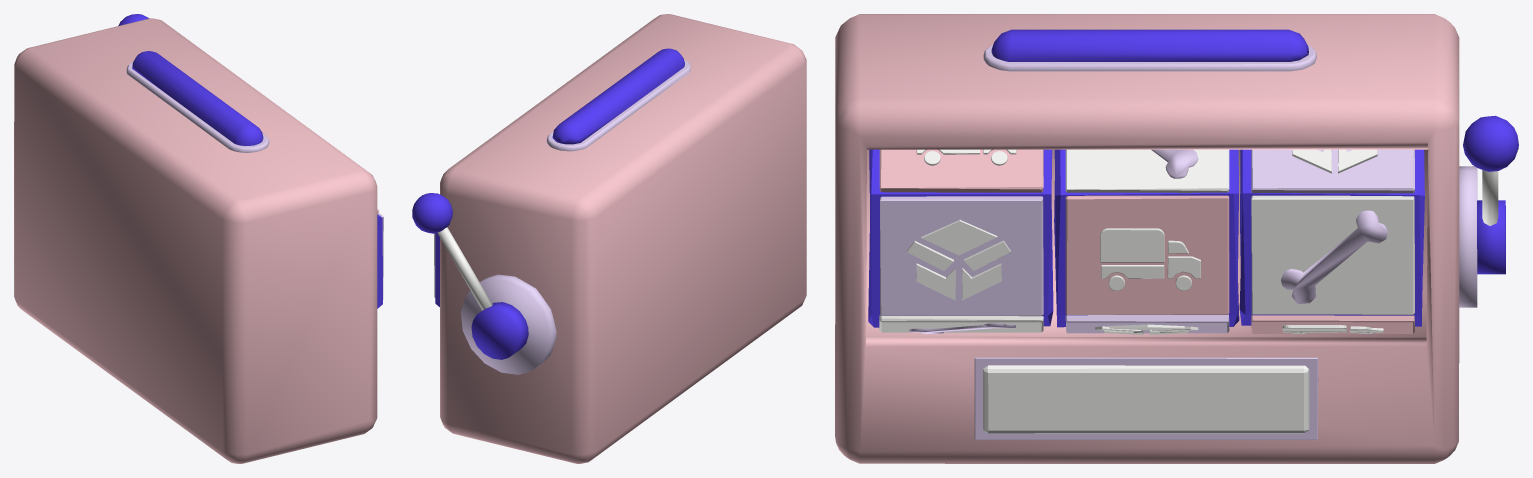
File: slot_machine_6.glb
3 views of the same model, side by side, from view 1: azimuth 30°, elevation 25°; view 2: azimuth 150°, elevation 25°; view 3: azimuth 270°, elevation 25° (orthographic). The views are drawn at different scales.
Visible parts, largest first — view 1: boite, gyro, gyro base, roue L; view 2: boite, manivelle base_1, gyro, manivelle base_2, gyro base, manivelle boule, manivelle poignée; view 3: boite, résultat, roue L_blanc, roue M_rose.001, roue L_lilas, gyro, résultat base, roue L_rose.001, roue M_blanc.001, roue R_lilas, roue R, roue L (+17 smaller).
Part boxes in pixels (box(x1,y1,x2,y2)): boite: box(14, 18, 377, 463); gyro: box(132, 51, 263, 145); gyro base: box(126, 62, 269, 152); roue L: box(377, 214, 382, 308); boite: box(440, 14, 806, 463); manivelle base_1: box(461, 274, 556, 374); gyro: box(552, 48, 684, 144); manivelle base_2: box(471, 302, 528, 359); gyro base: box(546, 60, 690, 151); manivelle boule: box(412, 193, 452, 233); manivelle poignée: box(437, 227, 492, 310); boite: box(835, 14, 1459, 463); résultat: box(983, 365, 1309, 433); roue L_blanc: box(1251, 195, 1414, 314); roue M_rose.001: box(1065, 195, 1229, 314); roue L_lilas: box(880, 196, 1043, 316); gyro: box(991, 29, 1308, 61); résultat base: box(974, 357, 1318, 439); roue L_rose.001: box(879, 149, 1043, 192); roue M_blanc.001: box(1065, 149, 1229, 192); roue R_lilas: box(1251, 149, 1414, 193); roue R: box(1239, 149, 1424, 326); roue L: box(868, 149, 1053, 327).
Size of what is drawn, in the model's own units: 2.01 by 3.18 by 5.02.
